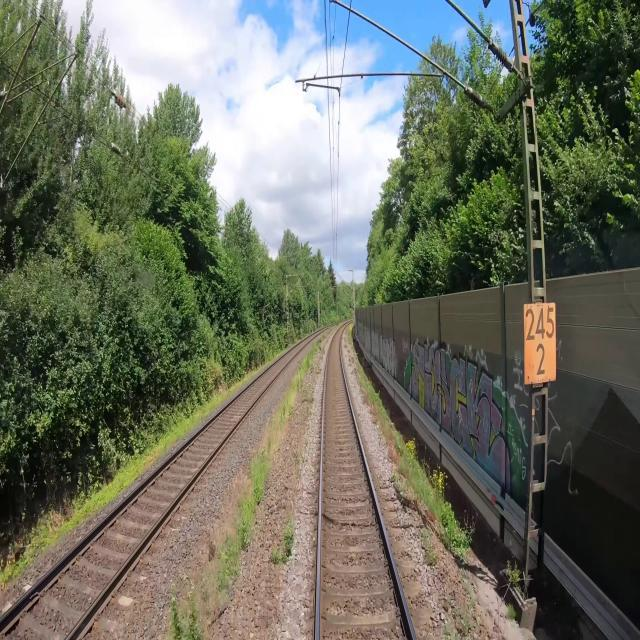Plant: (162, 331, 328, 639), (354, 356, 459, 556), (270, 526, 294, 565), (420, 534, 437, 567), (314, 348, 324, 376), (304, 386, 314, 403), (347, 325, 354, 344)
